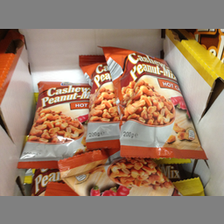nuts: (100, 45, 207, 159), (19, 81, 92, 166), (78, 53, 119, 148)
